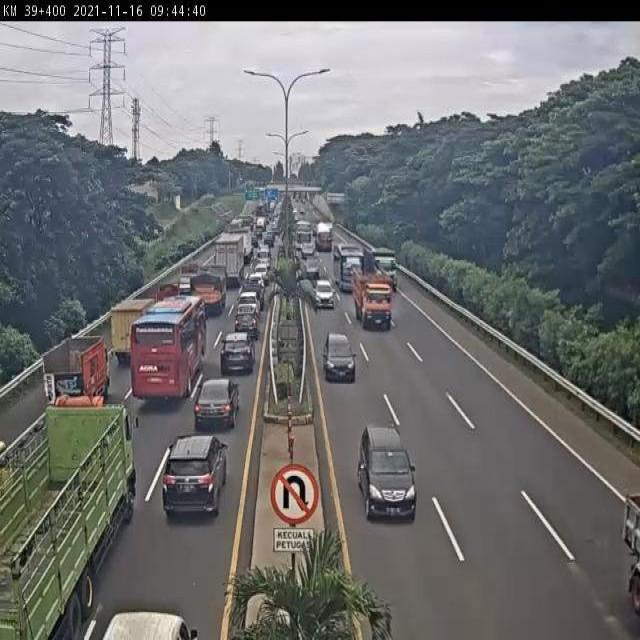big bus: (128, 298, 206, 402)
car: (356, 423, 420, 521), (163, 432, 228, 515), (192, 379, 237, 432), (320, 332, 356, 381), (218, 333, 253, 375), (232, 312, 259, 339), (314, 272, 334, 308), (238, 292, 260, 316)
small truck: (105, 298, 155, 371)
truck-l-: (2, 409, 136, 640), (352, 266, 391, 326)
truck-m-: (41, 337, 111, 411), (192, 265, 228, 316)
